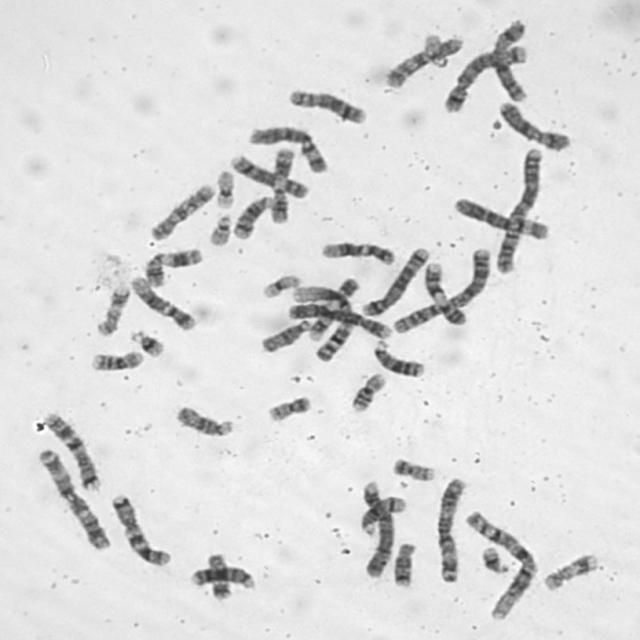A1: (461, 506, 541, 622), (286, 288, 386, 340)
A2: (387, 242, 496, 335), (489, 142, 545, 276)
A3: (32, 444, 112, 552), (431, 472, 469, 584)
B4: (283, 299, 393, 339), (356, 477, 396, 579)
B5: (439, 40, 530, 114), (356, 242, 432, 317)
C10: (380, 32, 466, 89), (144, 179, 216, 242)
C11: (138, 243, 204, 288), (265, 144, 295, 224)
C12: (124, 271, 197, 332), (315, 236, 396, 266)
C6: (448, 192, 552, 242), (243, 120, 329, 174)
C7: (36, 407, 102, 492), (105, 488, 173, 568)
C8: (224, 149, 310, 199), (282, 84, 368, 125)
C9: (298, 274, 360, 343), (419, 259, 469, 326)
D13: (368, 334, 426, 378), (185, 562, 256, 590)
D14: (354, 491, 407, 537), (228, 190, 275, 240)
D15: (170, 400, 234, 439), (256, 315, 314, 354)
E16: (346, 368, 387, 414), (85, 345, 145, 373)
E17: (538, 548, 601, 593), (90, 280, 130, 338)
E18: (203, 549, 233, 601), (388, 538, 417, 588)
F19: (256, 270, 302, 299), (210, 166, 236, 210)
F20: (260, 390, 312, 422), (387, 453, 438, 483)
G21: (124, 325, 167, 358), (476, 541, 513, 575)
G22: (419, 28, 450, 68), (202, 209, 232, 247)
X: (492, 97, 572, 152), (486, 14, 532, 103)
